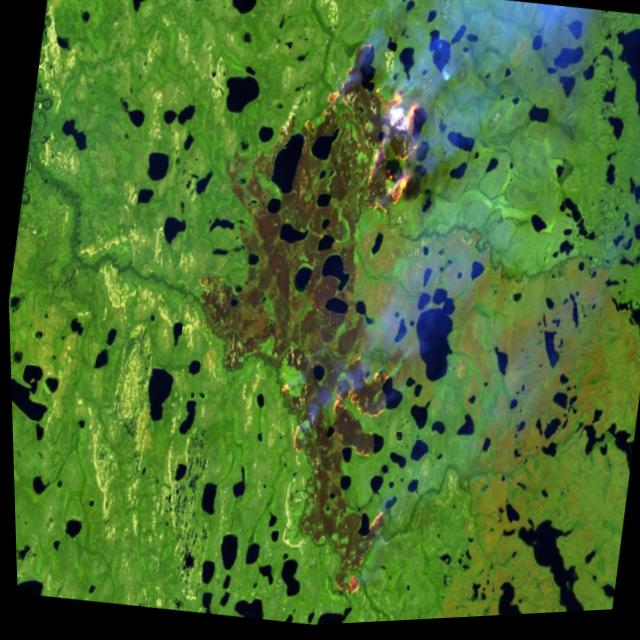fire: (237, 339, 417, 620), (297, 28, 437, 229)
